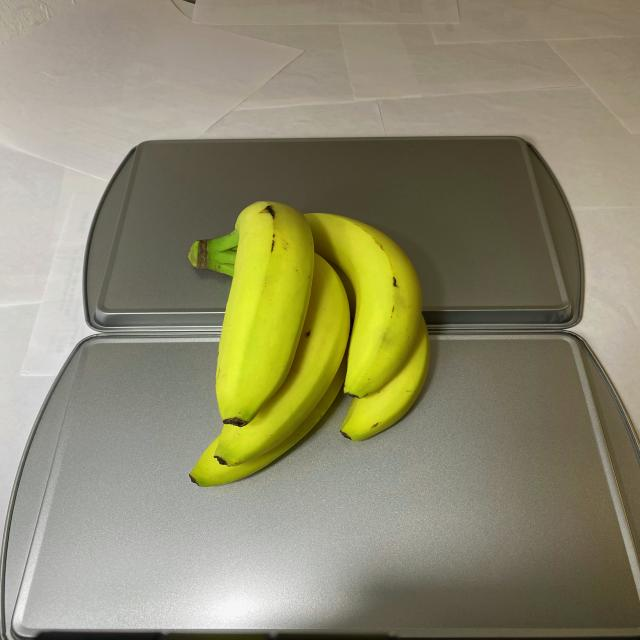Banana: (182, 198, 435, 494)
